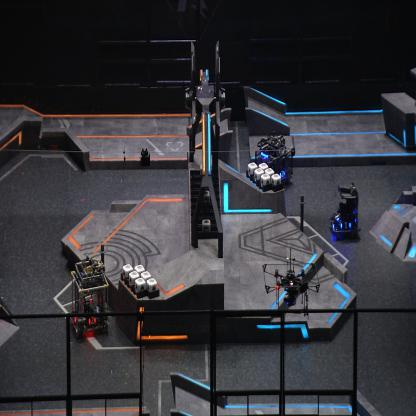car: (70, 256, 110, 339), (256, 132, 294, 187), (329, 181, 360, 239)
